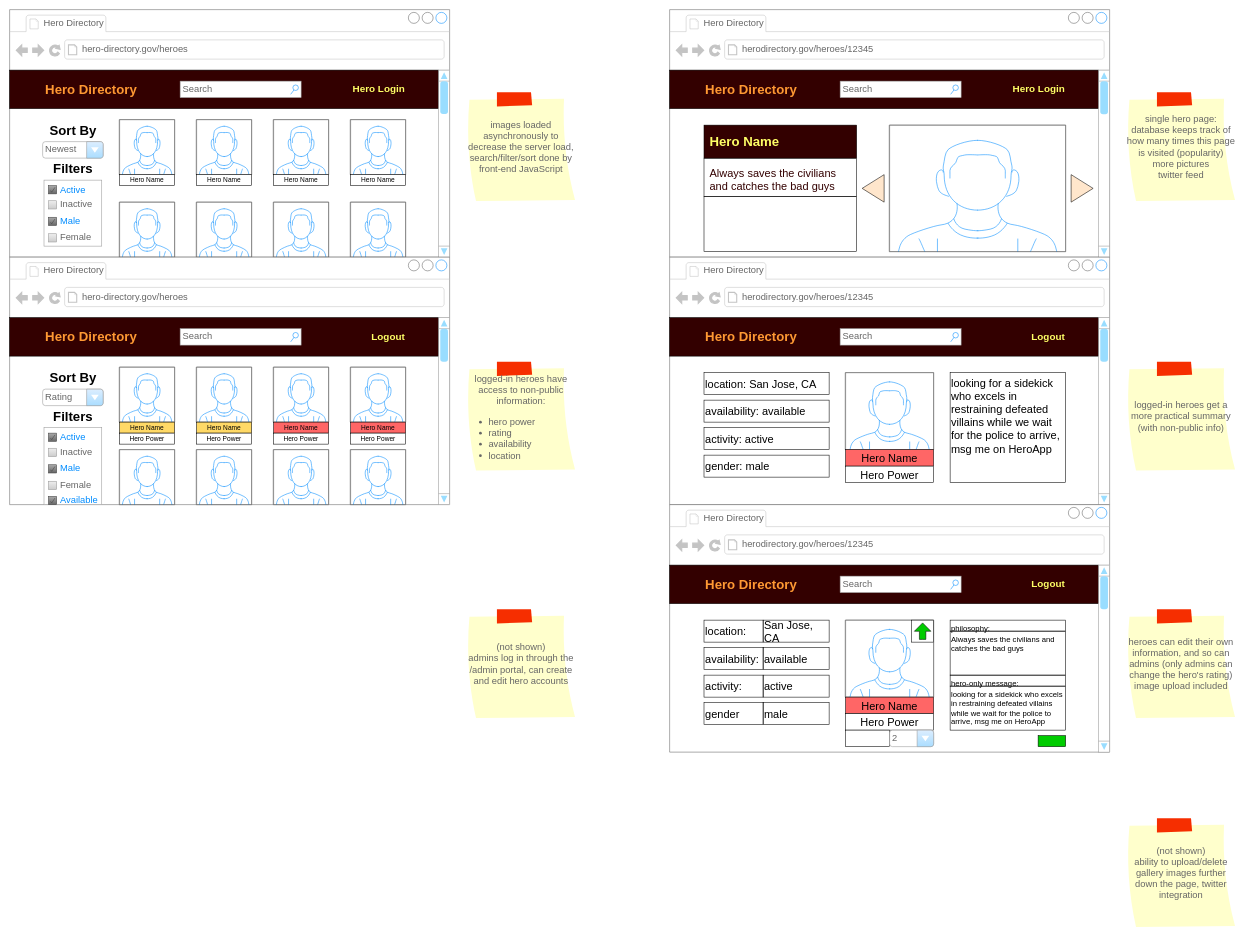
The diagram is 1246 pixels wide and 938 high, and some of its shapes have lost their labels. Here are the shapes that lost their labels. From the top down, the centre of each, then its label:
point 780,224: latest tweet: I love cheeseburgers
point 867,738: rating:
point 1052,741: save
